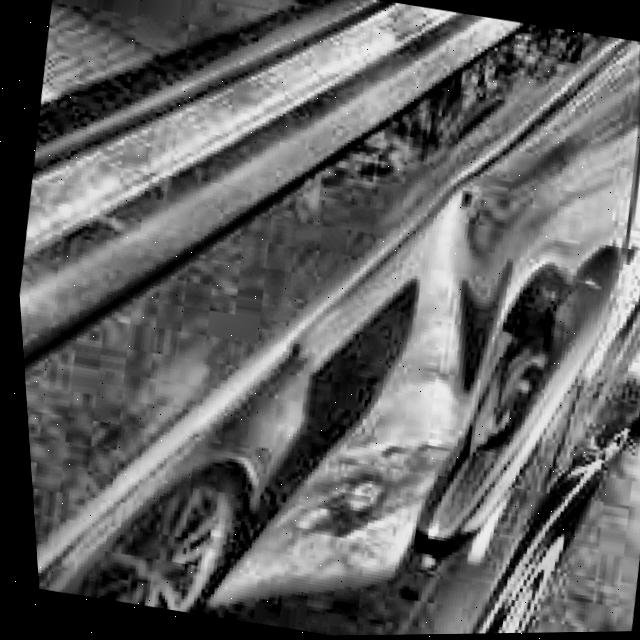door_dent: (252, 168, 640, 636)
